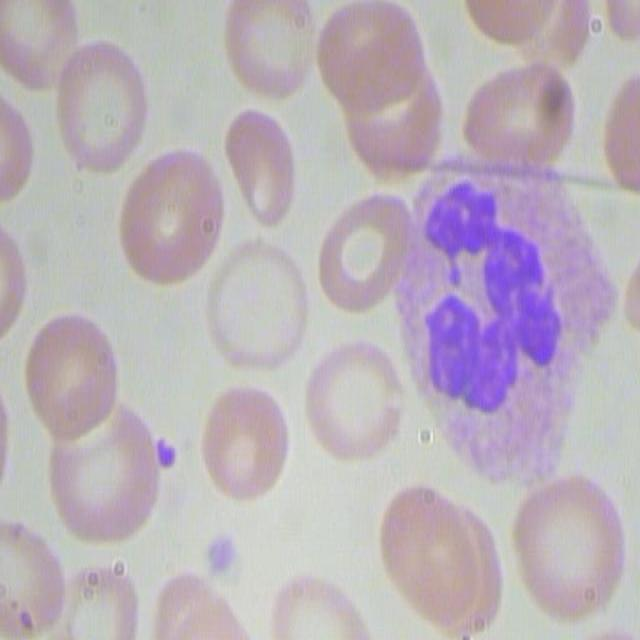RBC: (317, 0, 452, 182), (377, 483, 503, 637), (509, 468, 629, 623), (38, 400, 162, 546), (203, 235, 315, 376), (48, 32, 154, 178), (116, 145, 226, 285), (298, 334, 404, 468), (461, 57, 578, 174), (22, 305, 123, 435), (311, 187, 410, 319), (199, 372, 288, 504), (219, 1, 321, 102), (223, 101, 300, 229), (44, 552, 142, 638), (0, 518, 70, 638), (262, 569, 368, 640), (0, 0, 80, 91), (161, 572, 258, 640), (603, 67, 640, 194), (1, 232, 42, 343), (0, 82, 33, 206), (609, 237, 640, 368), (597, 0, 640, 44)
WBC: (403, 152, 563, 492)
platelets: (201, 531, 243, 583)
